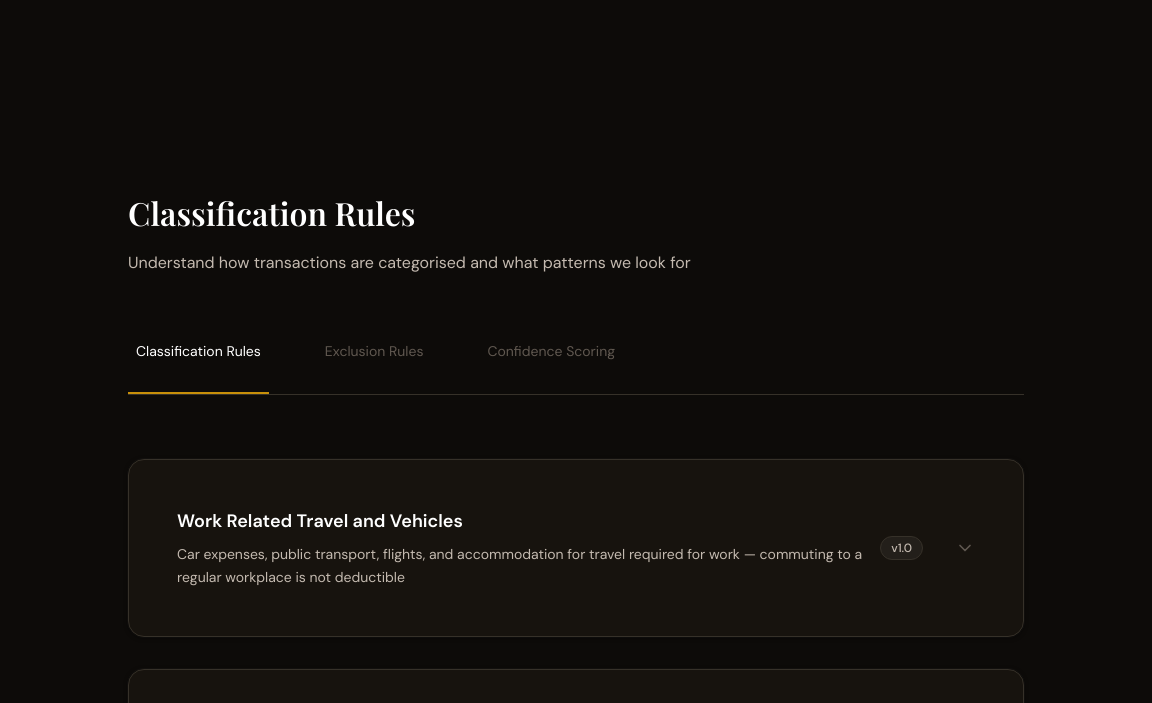
it: Rules Page › switches to exclusion rules tab
The width and height of the screenshot is (1152, 703).
Click the button "Exclusion Rules" at (374, 367), box [317, 340, 432, 394]
(page scrolled)
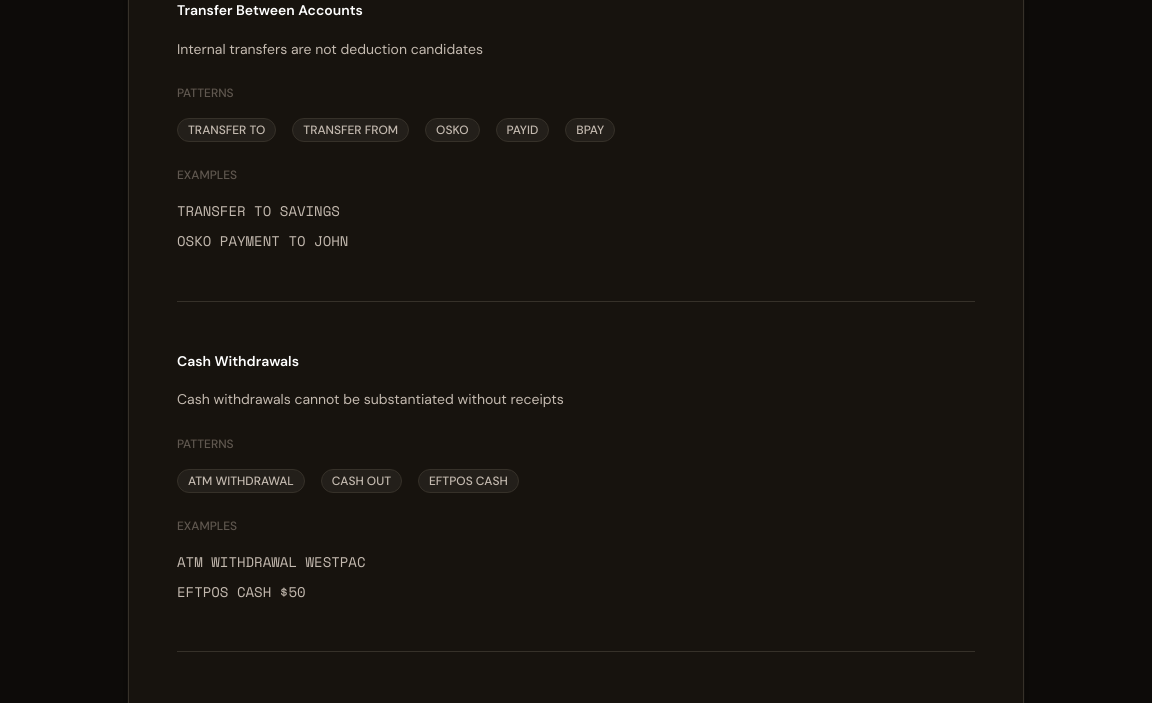
Expected: the heading "Transfer Between Accounts" is shown, [177, 1, 363, 19]
Expected: the heading "Cash Withdrawals" is shown, [177, 352, 299, 370]
